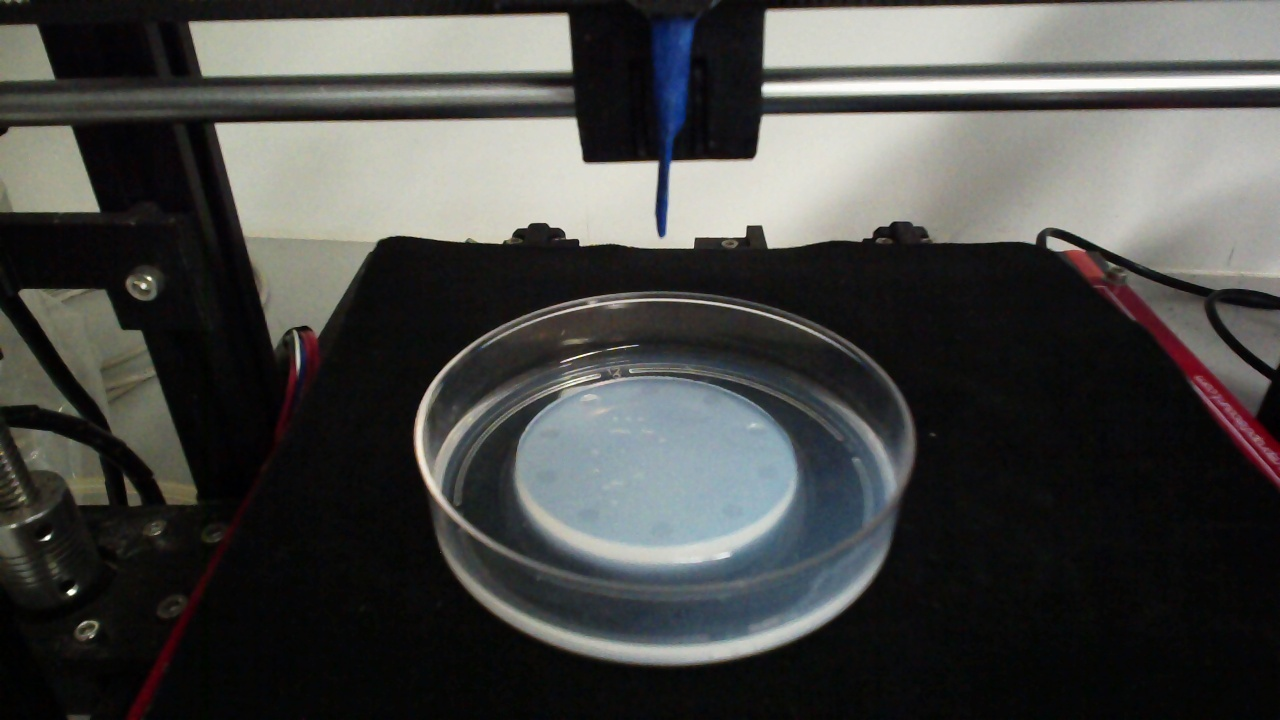groove: (646, 520, 674, 539), (576, 506, 600, 524), (534, 469, 559, 486), (720, 503, 745, 520), (756, 464, 780, 481), (745, 423, 772, 438), (700, 390, 722, 408), (639, 382, 662, 397), (579, 393, 601, 408), (539, 426, 561, 441)
needle: (655, 21, 693, 236)
